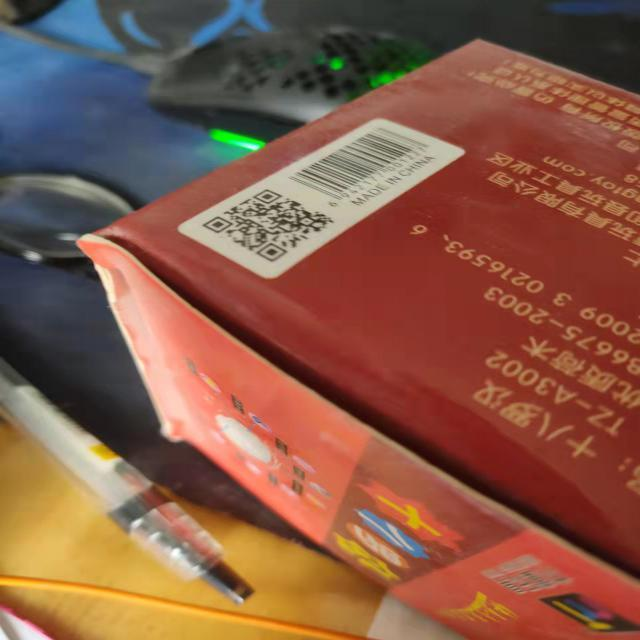qr_code: (203, 189, 335, 262)
